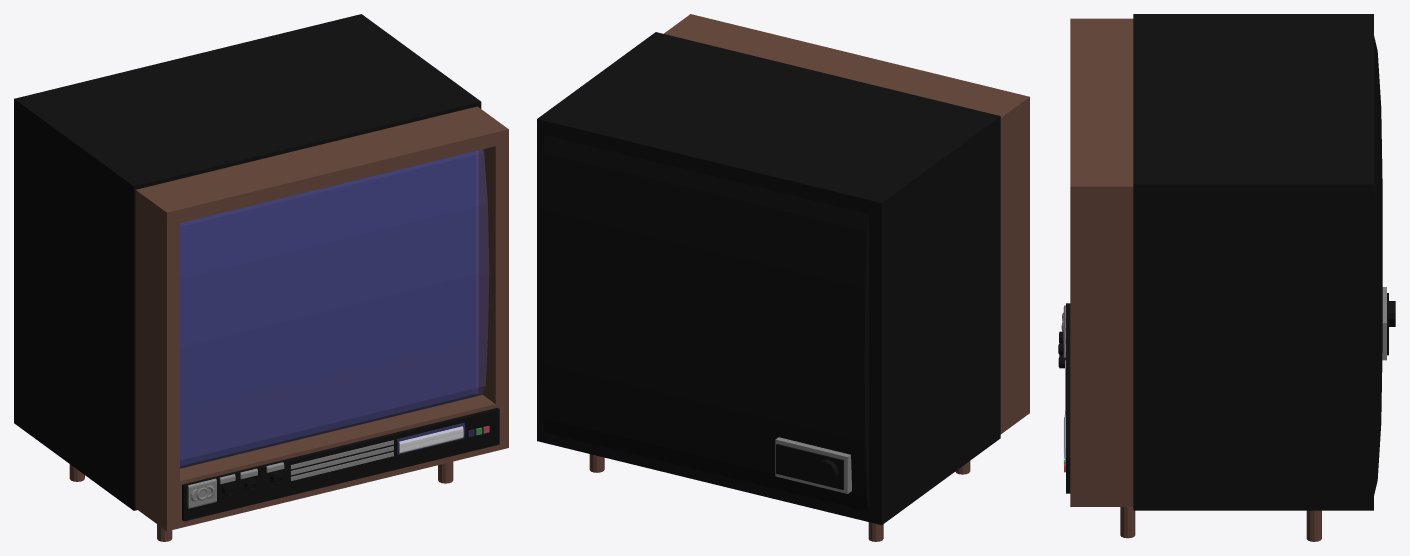
3 renders of one model, left to right at view 1: azimuth 30°, elevation 25°; view 2: azimuth 150°, elevation 25°; view 3: azimuth 270°, elevation 25°, orthographic.
Visible parts, largest first — view 1: node_MeshObject1482809344-PolyPaper21, node_MeshObject242575360-PolyGlass24; view 2: node_MeshObject1482809344-PolyPaper21; view 3: node_MeshObject1482809344-PolyPaper21.
Part boxes in pixels (bbox=[...]): node_MeshObject1482809344-PolyPaper21: bbox=[14, 14, 508, 541]; node_MeshObject242575360-PolyGlass24: bbox=[180, 149, 489, 468]; node_MeshObject1482809344-PolyPaper21: bbox=[537, 14, 1029, 541]; node_MeshObject1482809344-PolyPaper21: bbox=[1058, 14, 1395, 541].
Size of the model in its own units: 1.86 by 1.88 by 1.56.
